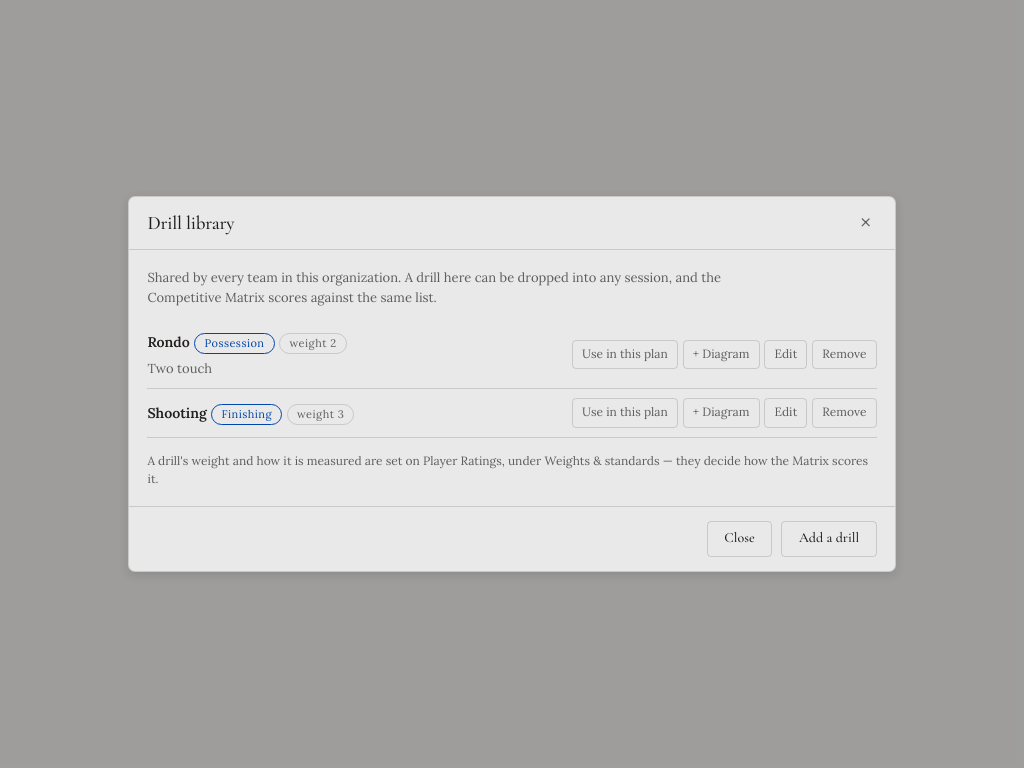
adding a drill › reports a refusal instead of closing the form
Click the button "Add a drill" at (829, 539), box [781,521,877,557]
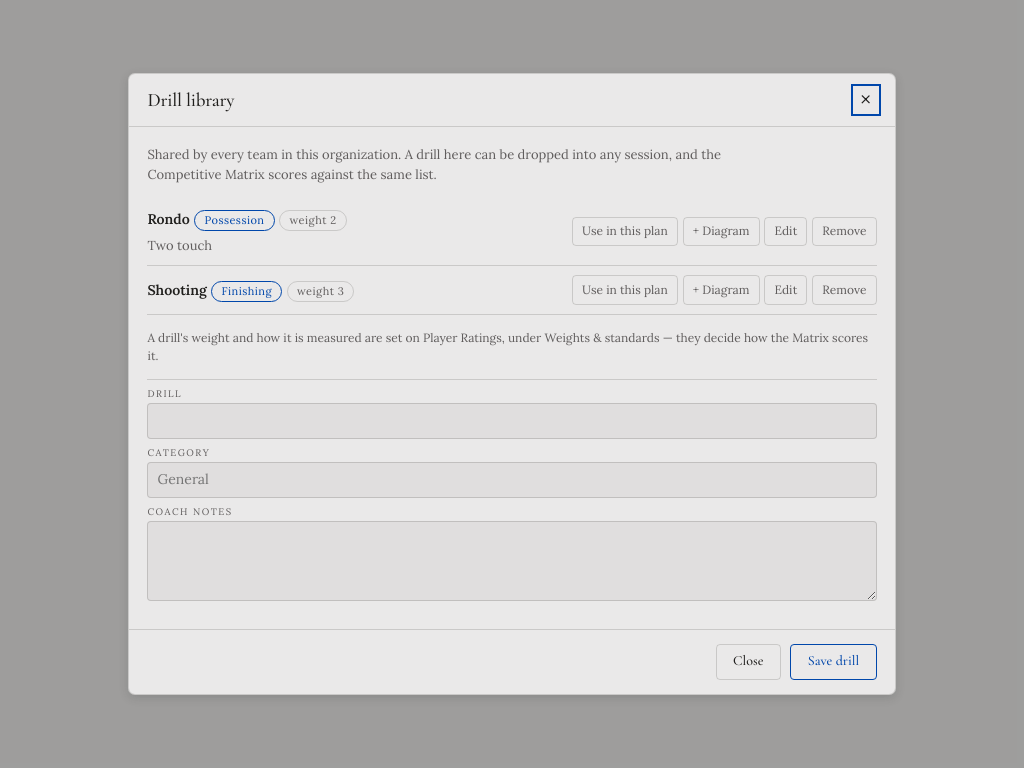
Type "Pressing shape" into the field labelled "Drill" at (512, 421), box [147,403,877,439]
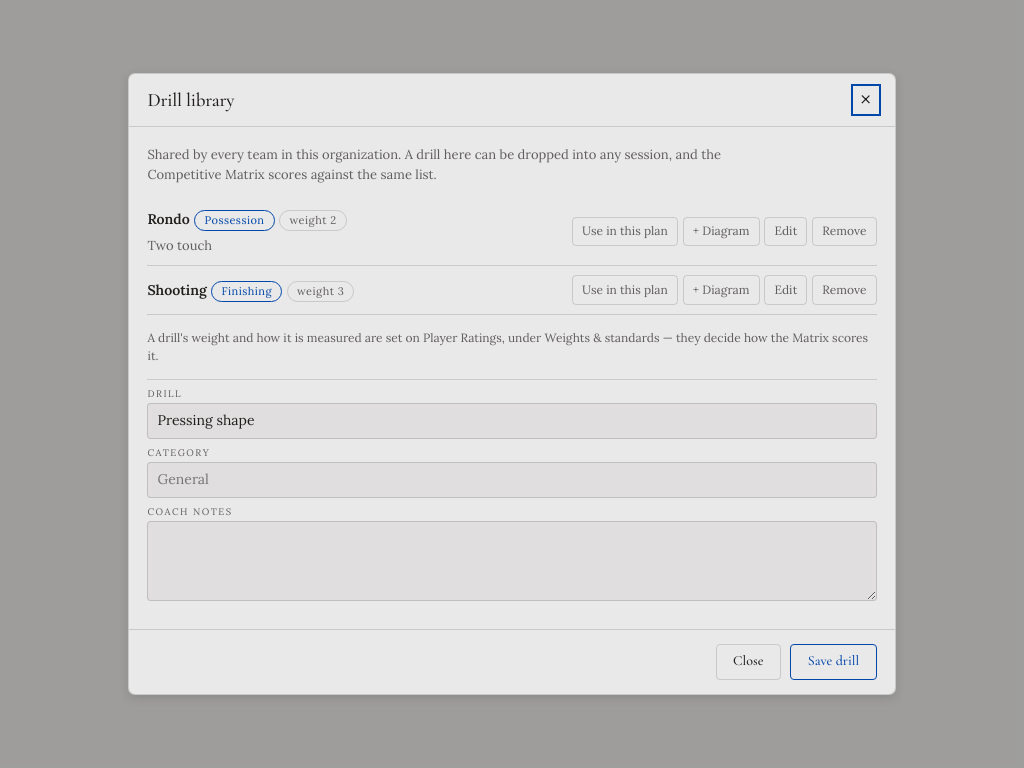
Click the button "Save drill" at (834, 662), box [790,644,877,680]
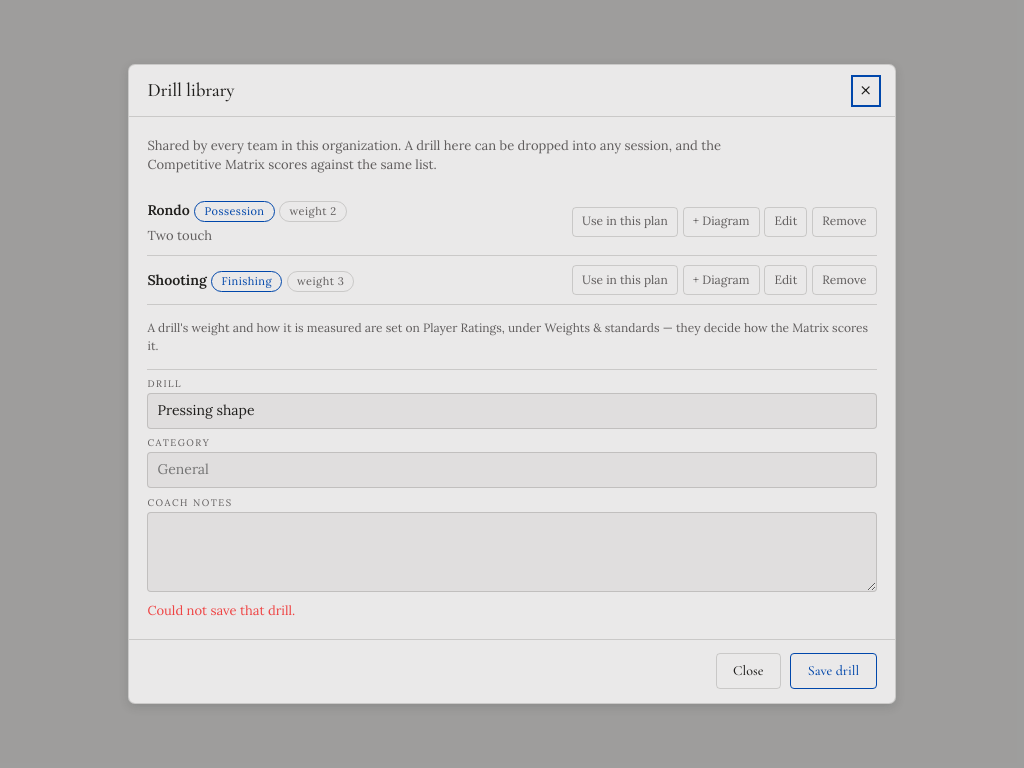
Result: the element showing "Drill Category Coach notes" is shown at [147,369,877,592]
Result: the message "Could not save that drill." is shown at [147,602,295,619]
